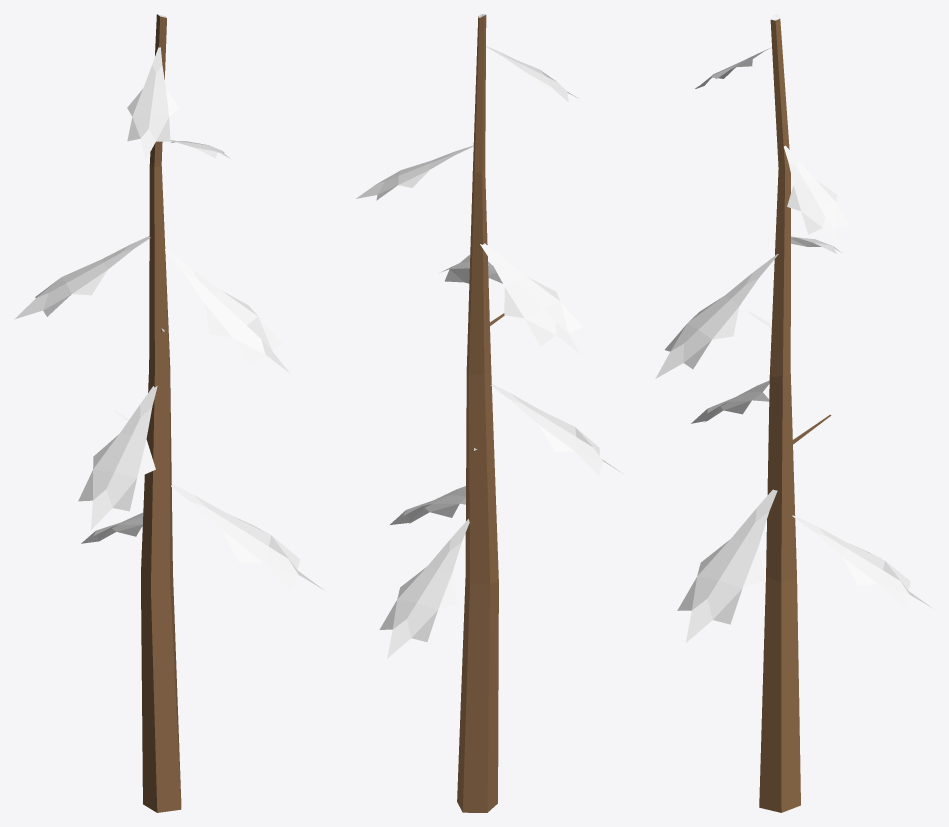
File: Dead_Pine_Tree_crk_OneSided_l_Snow_05_LOD.fbx
3 views of the same model, side by side, from view 1: azimuth 30°, elevation 25°; view 2: azimuth 150°, elevation 25°; view 3: azimuth 270°, elevation 25° (orthographic).
Visible parts, largest first — view 1: Dead_Pine_Tree_crk_OneSided_l_Snow_05_LOD0; view 2: Dead_Pine_Tree_crk_OneSided_l_Snow_05_LOD0; view 3: Dead_Pine_Tree_crk_OneSided_l_Snow_05_LOD0.
Boxes of the visible parts, box(x1,y1,x2,y2) form: Dead_Pine_Tree_crk_OneSided_l_Snow_05_LOD0: box(14, 14, 324, 812); Dead_Pine_Tree_crk_OneSided_l_Snow_05_LOD0: box(356, 14, 622, 812); Dead_Pine_Tree_crk_OneSided_l_Snow_05_LOD0: box(655, 14, 932, 812).
Size of what is drawn, in the model's own units: 437 by 1363 by 439.
